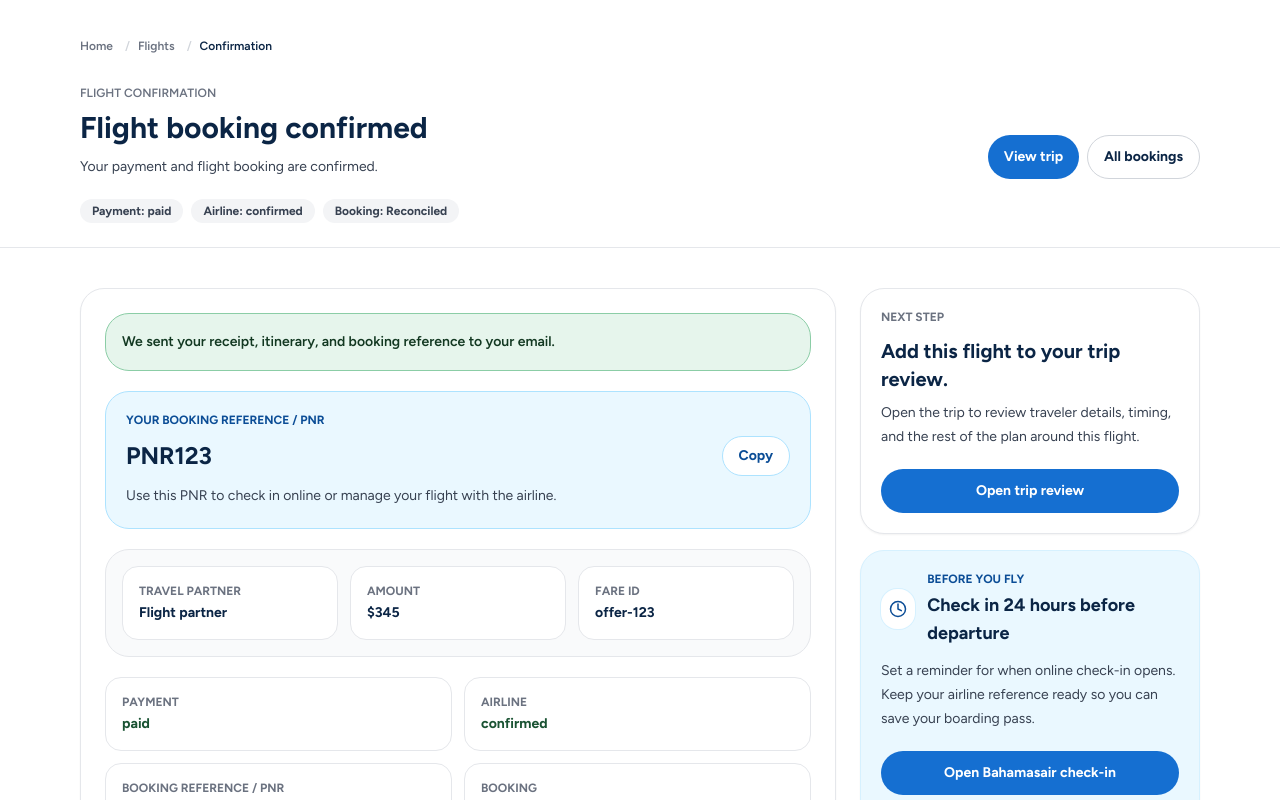
Test case: FlightBookingConfirmationClient › shows confirmed copy only when booking return is reconciled
Expected: the heading "Flight booking confirmed" is shown, [80, 109, 428, 146]
Expected: the text "Your payment and flight booking are confirmed." is shown, [80, 154, 428, 178]
Click the button with aria-label "Copy booking reference PNR123".
click(756, 456)  # box [722, 436, 790, 476]
(page scrolled)
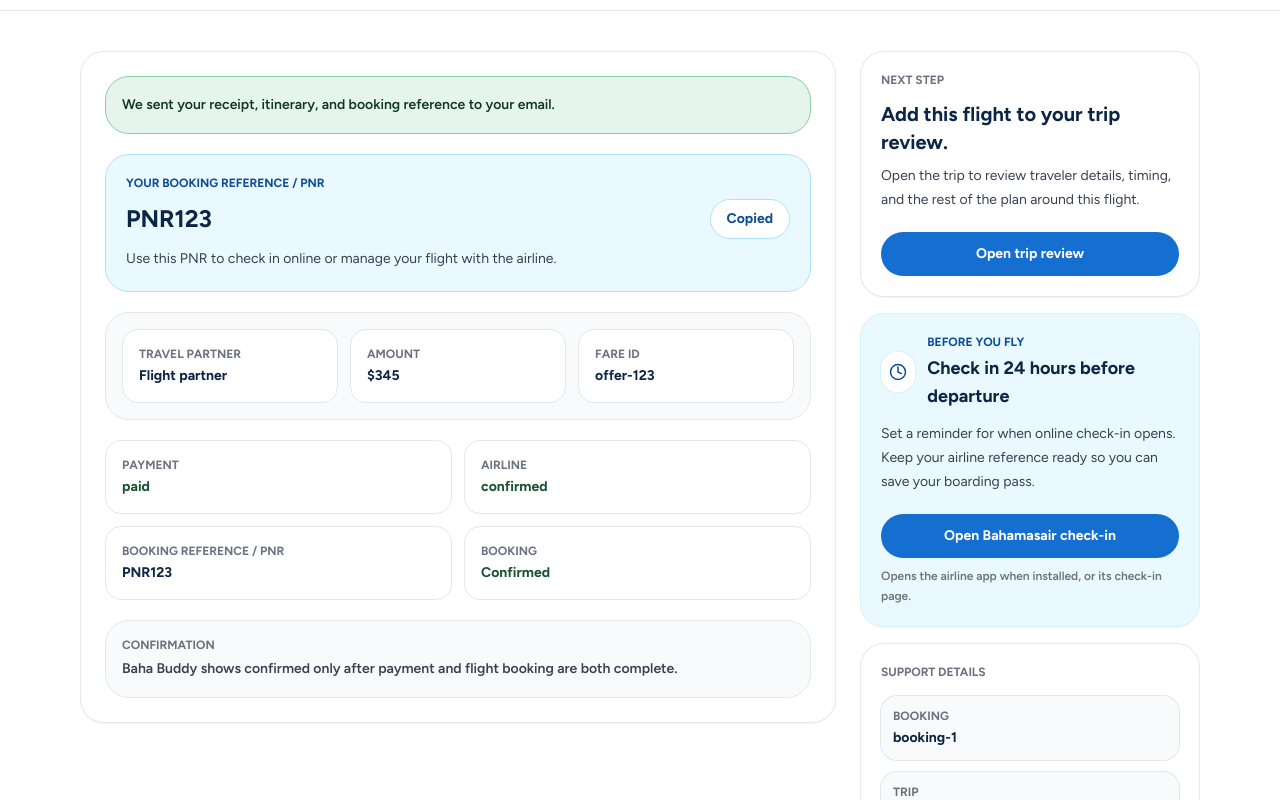
Now the button "Copied" is shown, box [710, 198, 790, 238]
